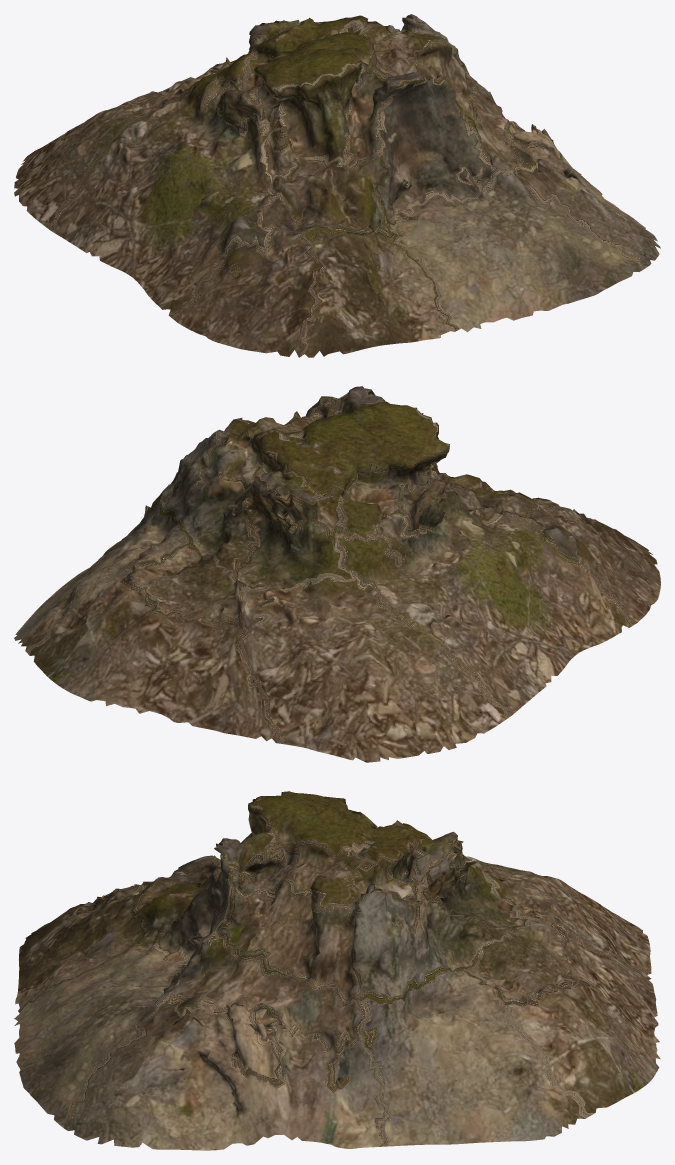
The model's file is tree_stump_01.glb.
3 views of the same model, one above another, from view 1: azimuth 30°, elevation 25°; view 2: azimuth 150°, elevation 25°; view 3: azimuth 270°, elevation 25° (orthographic). The views are drawn at different scales.
Visible parts, largest first — view 1: tree_stump_01; view 2: tree_stump_01; view 3: tree_stump_01.
Part boxes in pixels (bbox=[...]): tree_stump_01: bbox=[14, 14, 660, 357]; tree_stump_01: bbox=[14, 386, 660, 762]; tree_stump_01: bbox=[14, 791, 660, 1150].
Bounding box in the file's own units: 1.43 × 0.5723 × 1.59.
Materials: 1 (1 with a texture image).
